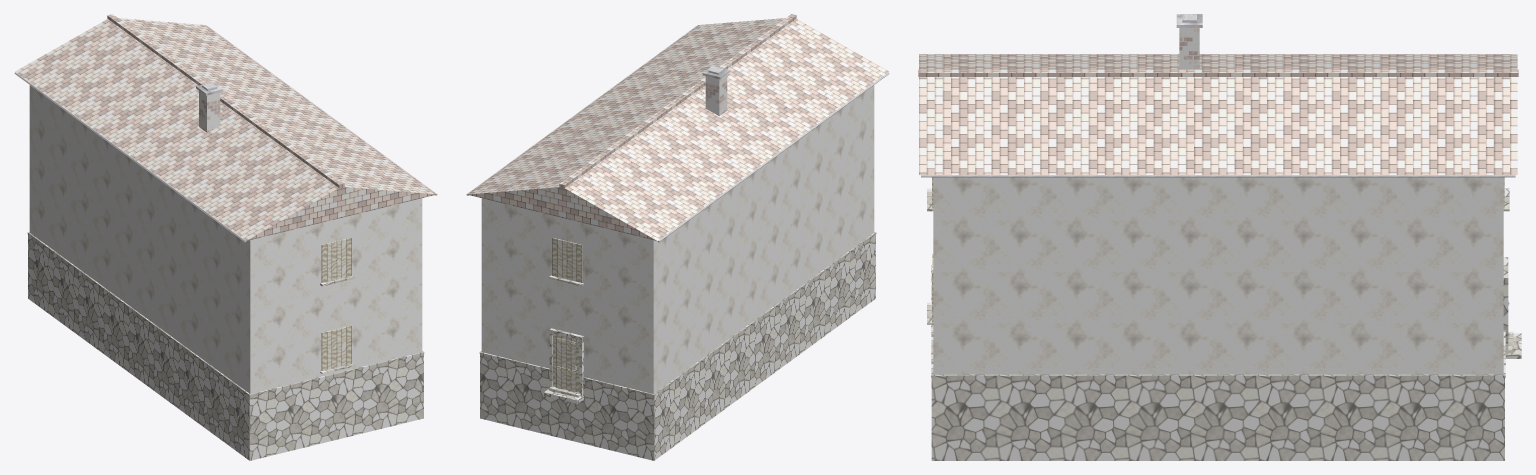
3 views of the same model, side by side, from view 1: azimuth 30°, elevation 25°; view 2: azimuth 150°, elevation 25°; view 3: azimuth 270°, elevation 25° (orthographic). The views are drawn at different scales.
Parts seen in each view (by area): view 1: b615242526; view 2: b615242526; view 3: b615242526.
Boxes of the visible parts, left/top/right/bottom form: b615242526: left=14, top=14, right=437, bottom=460; b615242526: left=466, top=14, right=889, bottom=460; b615242526: left=918, top=14, right=1521, bottom=460.
Bounding box in the file's own units: 7.12 × 10.12 × 14.9.
Materials: 17 (17 with a texture image).
